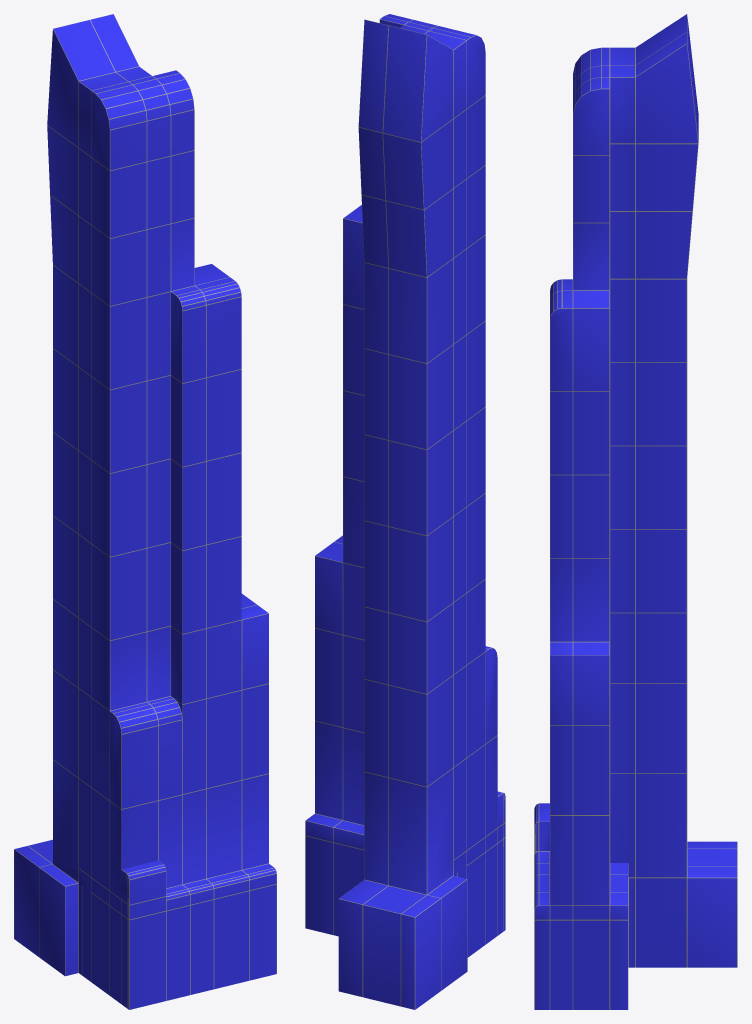
Rendered from Re_Hyatt_re_05.fbx.
3 views of the same model, side by side, from view 1: azimuth 30°, elevation 25°; view 2: azimuth 150°, elevation 25°; view 3: azimuth 270°, elevation 25° (orthographic). The views are drawn at different scales.
Visible parts, largest first — view 1: Main.006; view 2: Main.006; view 3: Main.006.
Boxes of the visible parts, bbox=[...] form: Main.006: bbox=[14, 14, 276, 1009]; Main.006: bbox=[305, 14, 505, 1009]; Main.006: bbox=[534, 14, 737, 1009].
Bounding box in the file's own units: 5634 × 30870 × 6149.
